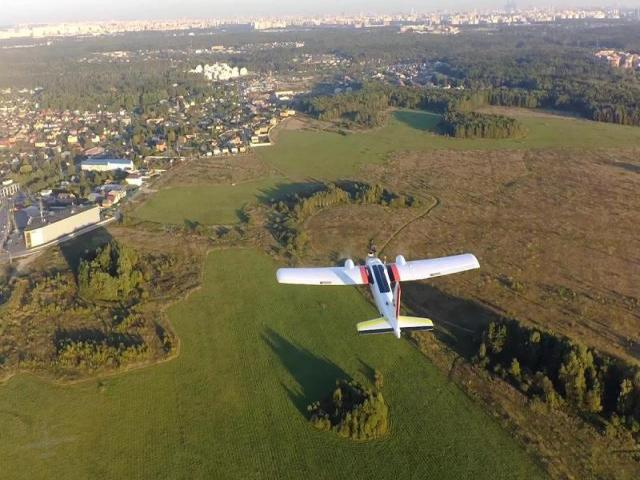hedef: (278, 238, 480, 346)
